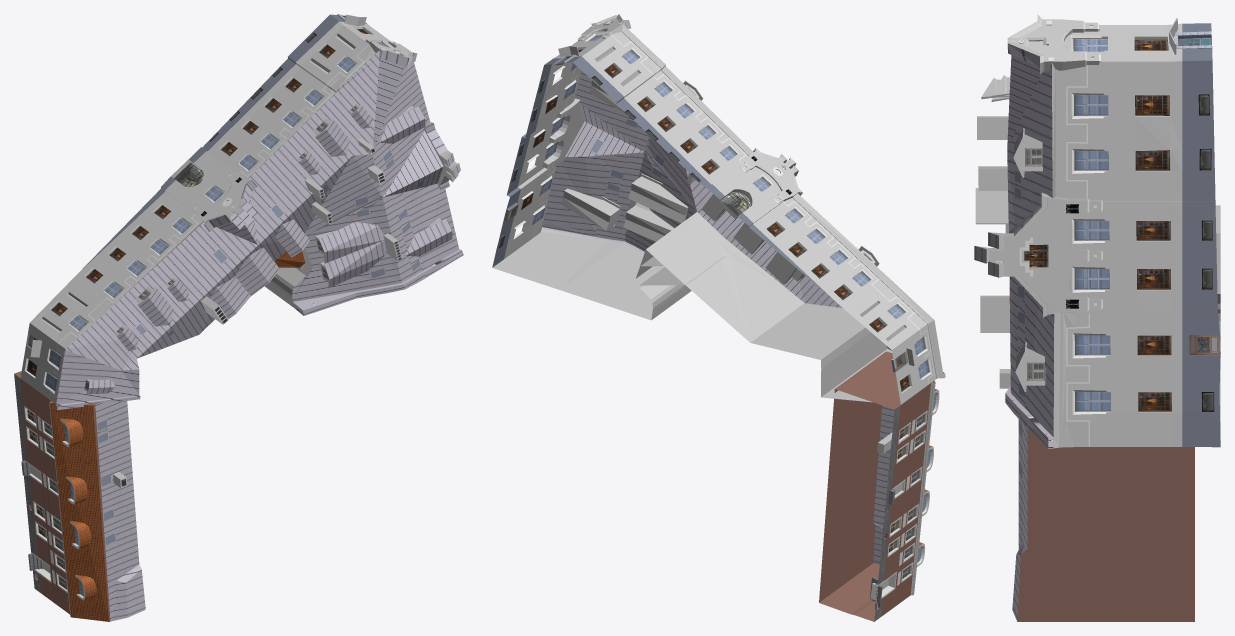
File: Olevimagi_16.obj
3 views of the same model, side by side, from view 1: azimuth 30°, elevation 25°; view 2: azimuth 150°, elevation 25°; view 3: azimuth 270°, elevation 25° (orthographic). The views are drawn at different scales.
Parts seen in each view (by area): view 1: polySurface57; view 2: polySurface57; view 3: polySurface57.
Part boxes in pixels (left/top/right/bottom): polySurface57: left=14, top=14, right=463, bottom=621; polySurface57: left=492, top=14, right=945, bottom=621; polySurface57: left=974, top=14, right=1220, bottom=621.
Bounding box in the file's own units: 46.1 × 54.29 × 14.96.
